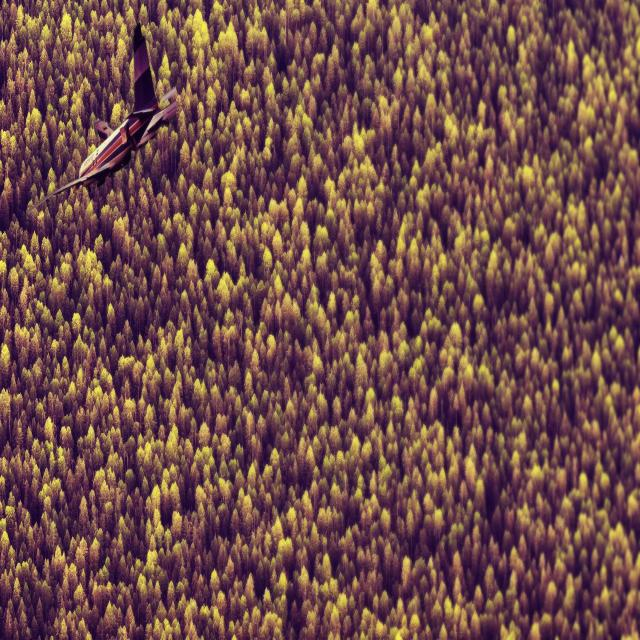airplane: (26, 21, 177, 215)
